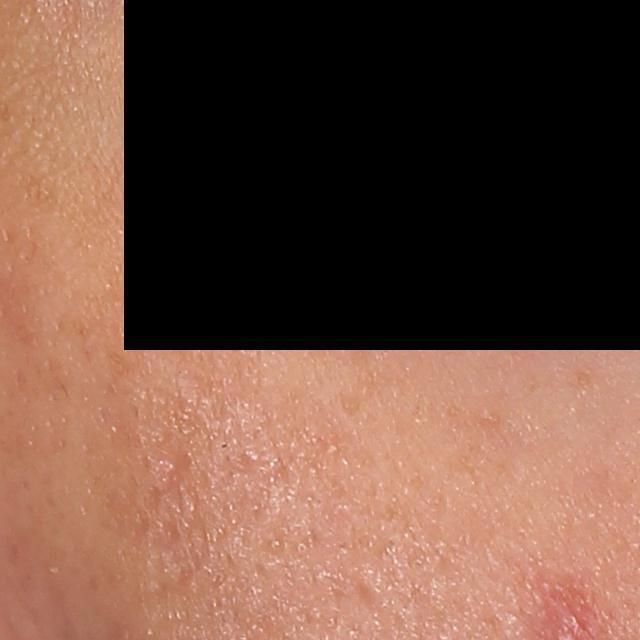atrophic_scar: (353, 572, 386, 612)
